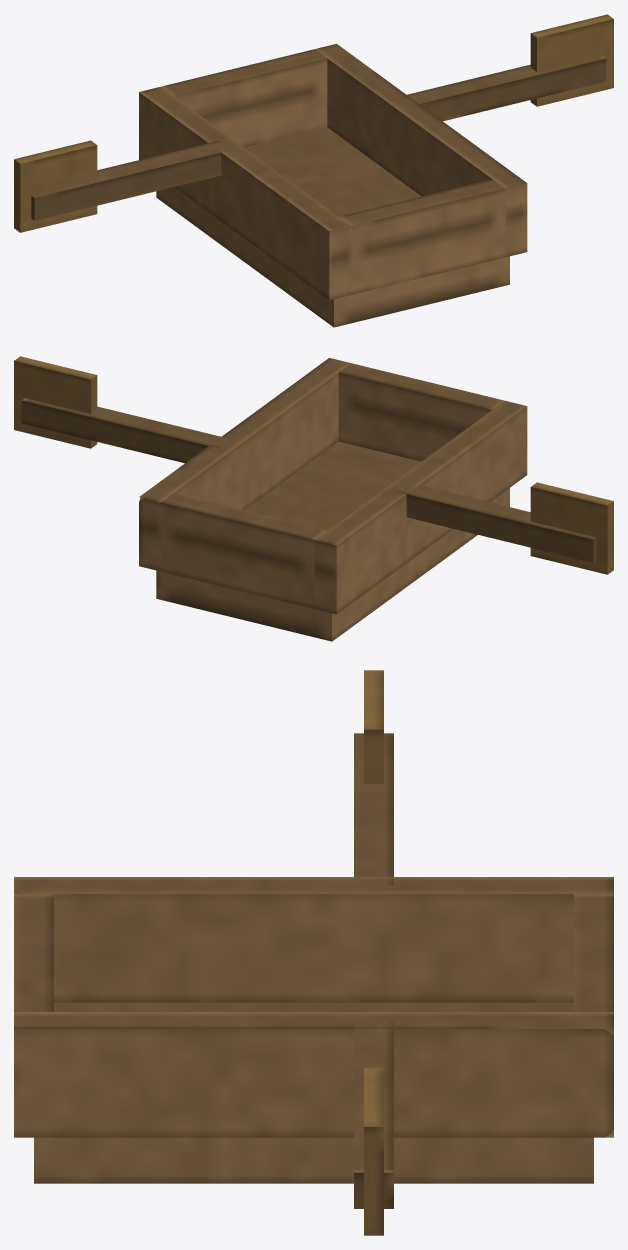
File: boat.fbx
3 views of the same model, one above another, from view 1: azimuth 30°, elevation 25°; view 2: azimuth 150°, elevation 25°; view 3: azimuth 270°, elevation 25° (orthographic). The views are drawn at different scales.
Parts seen in each view (by area): view 1: boat; view 2: boat; view 3: boat.
Boxes of the visible parts, <box> form: boat: <box>14,14,613,327</box>; boat: <box>14,356,613,641</box>; boat: <box>14,670,613,1235</box>.
Bounding box in the file's own units: 3.38 × 0.75 × 1.88.
Materials: 1 (1 with a texture image).
